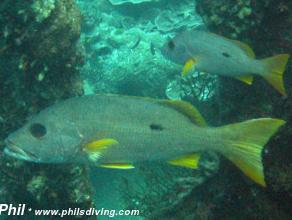Lutjanidae -Snappers-: (0, 90, 286, 188), (157, 25, 290, 99)
